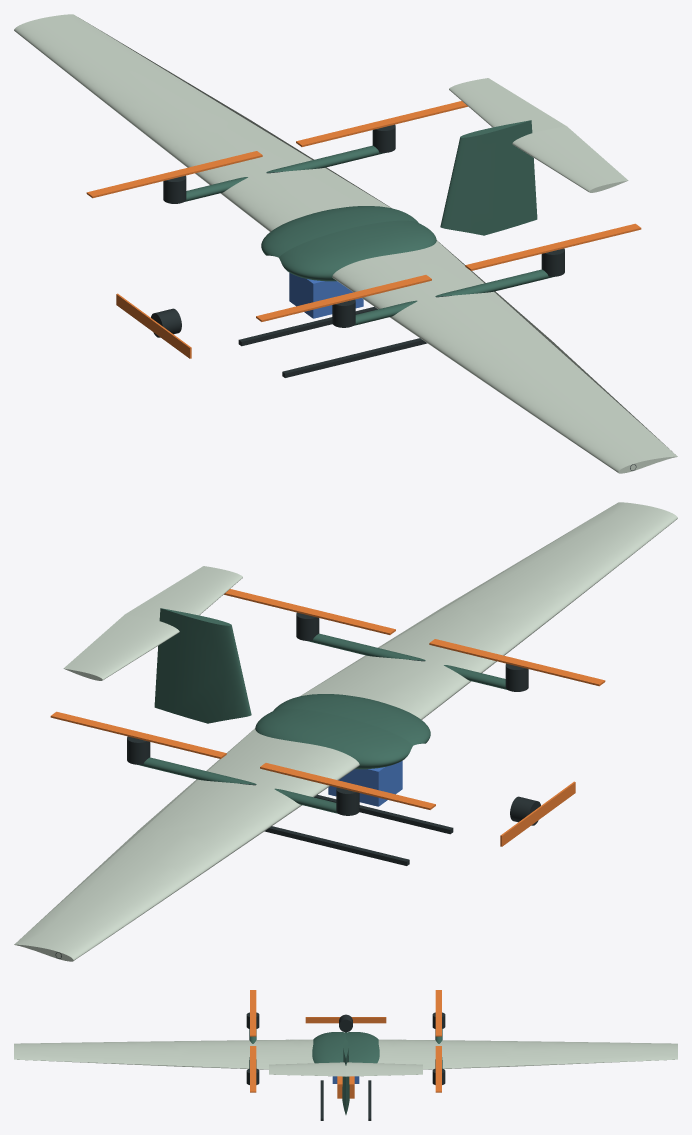
File: surface_tools-12-internal.glb
The picture shows the model from 3 angles, top to bottom: view 1: azimuth 30°, elevation 25°; view 2: azimuth 150°, elevation 25°; view 3: azimuth 270°, elevation 25°; orthographic projection. The views are drawn at different scales.
Parts seen in each view (by area): view 1: wing-1, wing1, fin, root_fairing-1, tail-1, root_fairing1, tail1, boom_fairing-1, payload, boom_fairing1, prop_-1_700.0, prop_1_200.0 (+5 smaller); view 2: wing1, wing-1, fin, root_fairing1, tail1, root_fairing-1, tail-1, boom_fairing1, payload, boom_fairing-1, prop_1_700.0, prop_-1_200.0 (+5 smaller); view 3: wing-1, wing1, tail-1, tail1, root_fairing-1, root_fairing1, cruise_prop, fin, prop_-1_200.0, prop_-1_700.0, prop_1_200.0, prop_1_700.0 (+1 smaller).
Boxes of the visible parts, x1,y1,x2,y2 form: wing-1: (332, 240, 677, 473); wing1: (14, 14, 391, 231); fin: (440, 120, 537, 235); root_fairing-1: (279, 220, 436, 281); tail-1: (512, 126, 628, 192); root_fairing1: (261, 206, 418, 257); tail1: (449, 78, 566, 132); boom_fairing-1: (353, 269, 554, 325); payload: (289, 273, 363, 318); boom_fairing1: (184, 145, 384, 201); prop_-1_700.0: (465, 223, 641, 270); prop_1_200.0: (86, 151, 262, 198); wing1: (14, 728, 359, 961); wing-1: (300, 502, 677, 719); fin: (154, 608, 251, 723); root_fairing1: (255, 708, 412, 769); tail1: (63, 614, 179, 680); root_fairing-1: (273, 694, 430, 745); tail-1: (125, 566, 242, 620); boom_fairing1: (137, 757, 338, 813); payload: (328, 761, 402, 806); boom_fairing-1: (307, 633, 507, 689); prop_1_700.0: (50, 711, 226, 758); prop_-1_200.0: (429, 639, 605, 686); wing-1: (14, 1039, 314, 1069); wing1: (377, 1039, 677, 1069); tail-1: (269, 1062, 345, 1076); tail1: (346, 1062, 422, 1076); root_fairing-1: (312, 1032, 345, 1063); root_fairing1: (346, 1032, 379, 1063); cruise_prop: (305, 1017, 386, 1023); fin: (342, 1039, 349, 1114); prop_-1_200.0: (250, 990, 256, 1036); prop_-1_700.0: (250, 1046, 256, 1092); prop_1_200.0: (435, 990, 441, 1036); prop_1_700.0: (435, 1046, 441, 1092).
Bounding box in the file's own units: 989 × 400 × 2500.
